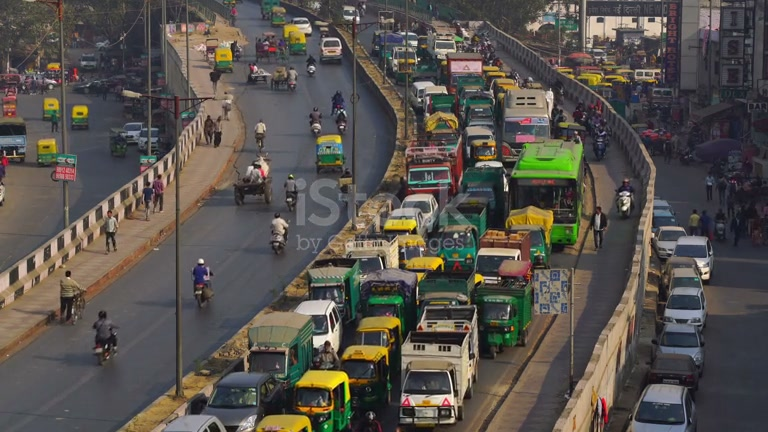bus: (508, 137, 585, 248), (471, 230, 534, 351), (358, 268, 419, 339), (499, 88, 551, 163), (424, 111, 465, 192), (405, 149, 454, 206), (0, 116, 27, 161), (466, 125, 497, 163)
car: (201, 372, 286, 430), (397, 360, 462, 430), (292, 369, 354, 432), (339, 345, 391, 417), (629, 382, 698, 432), (293, 299, 344, 361), (651, 323, 706, 378), (662, 282, 708, 331), (656, 255, 706, 299), (670, 236, 715, 283), (648, 352, 703, 390), (400, 193, 441, 234), (650, 225, 687, 260), (160, 414, 229, 432), (0, 116, 27, 159), (250, 414, 314, 432), (320, 37, 343, 64), (248, 64, 271, 83)
pedestrian: (59, 269, 82, 324), (191, 258, 214, 301), (92, 310, 116, 351), (102, 210, 118, 254), (592, 205, 607, 250), (152, 172, 166, 212), (688, 209, 700, 236)
truck: (399, 299, 480, 404), (244, 309, 316, 387), (445, 51, 485, 95)
